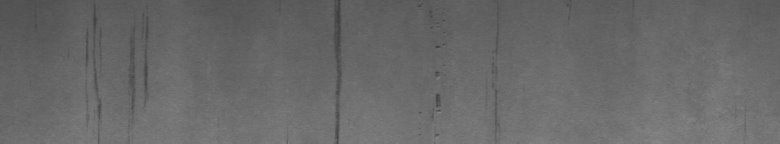hd: (329, 4, 344, 136)
